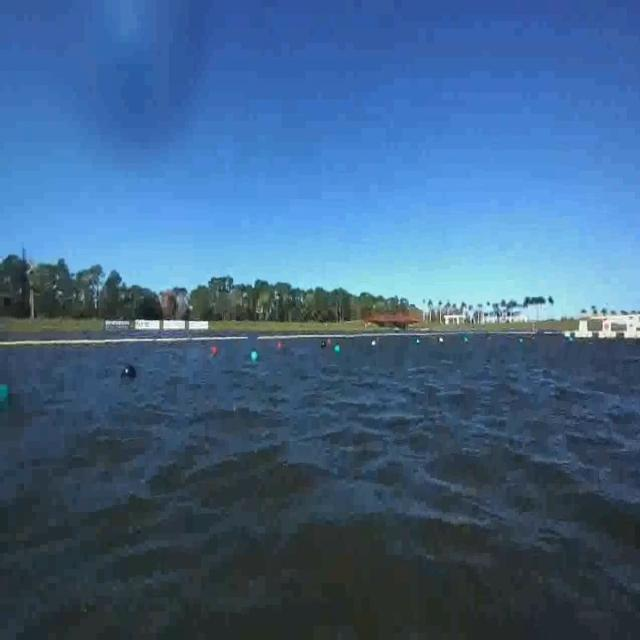black-buoy: (125, 363, 138, 379)
green-buoy: (248, 346, 265, 368), (0, 381, 11, 401), (336, 345, 342, 355)
red-buoy: (208, 346, 223, 358)
